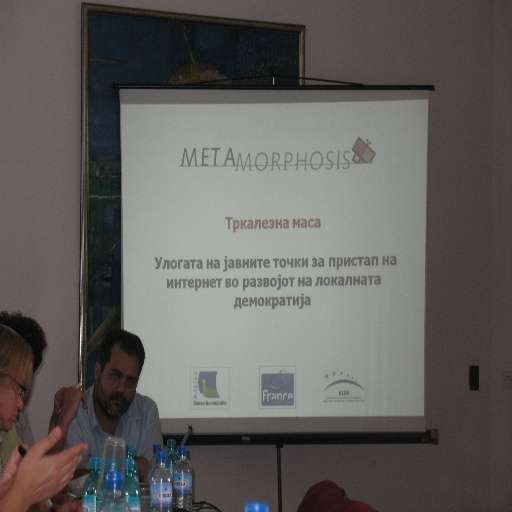hand: (14, 419, 78, 506), (0, 441, 32, 500), (60, 385, 88, 427), (50, 486, 69, 511), (53, 384, 67, 413), (56, 500, 85, 511), (69, 466, 90, 480)
